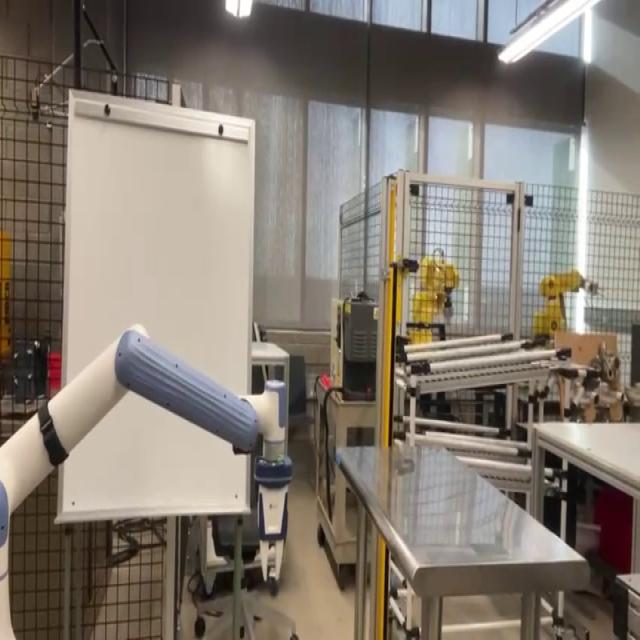robot: (0, 308, 296, 640), (531, 266, 600, 338)
